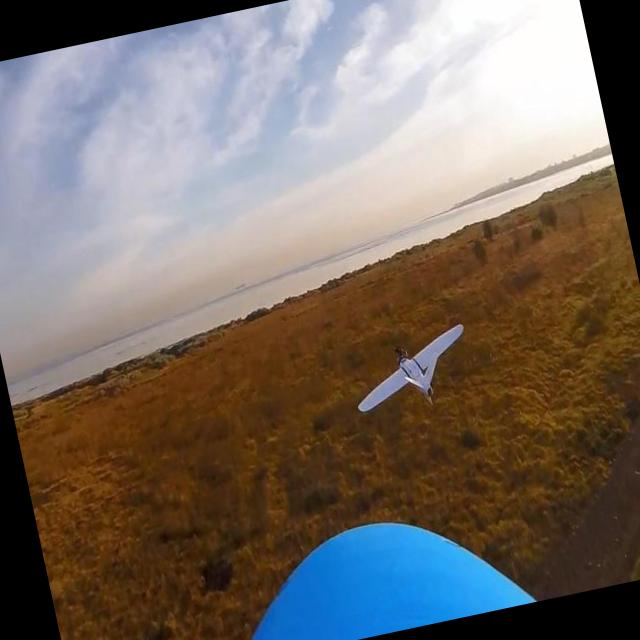UAV: (337, 318, 512, 444)
